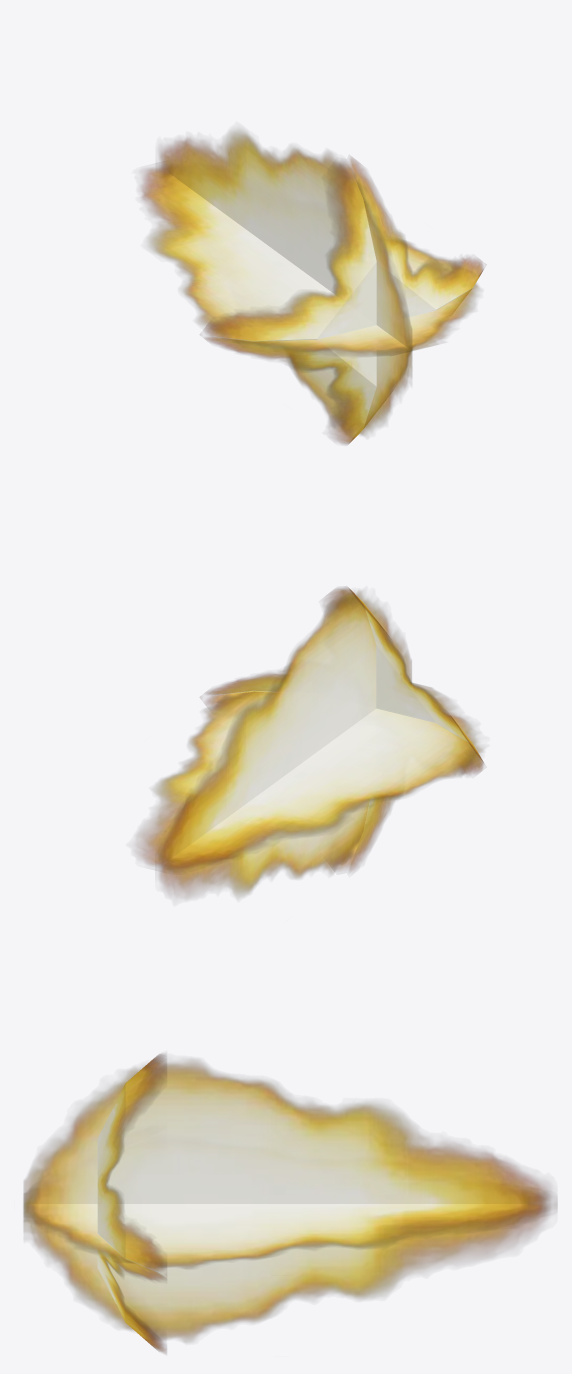
File: muzzle_flash.glb
3 renders of one model, top to bottom at view 1: azimuth 30°, elevation 25°; view 2: azimuth 150°, elevation 25°; view 3: azimuth 270°, elevation 25°, orthographic. The views are drawn at different scales.
Visible parts, largest first — view 1: cube11, sphere10, cube11_copy12; view 2: cube11, cube11_copy12, sphere10; view 3: cube11, cube11_copy12, sphere10.
Boxes of the visible parts, x1=… form: cube11: x1=159, y1=129, x2=412, y2=435; sphere10: x1=204, y1=157, x2=483, y2=444; cube11_copy12: x1=140, y1=166, x2=479, y2=356; cube11: x1=159, y1=591, x2=411, y2=898; cube11_copy12: x1=136, y1=683, x2=482, y2=870; sphere10: x1=200, y1=587, x2=484, y2=871; cube11: x1=24, y1=1059, x2=550, y2=1342; cube11_copy12: x1=24, y1=1188, x2=549, y2=1268; sphere10: x1=97, y1=1054, x2=166, y2=1353.
Size of the model in its own units: 1.85 by 1.85 by 2.91.
Materials: 1 (1 with a texture image).
